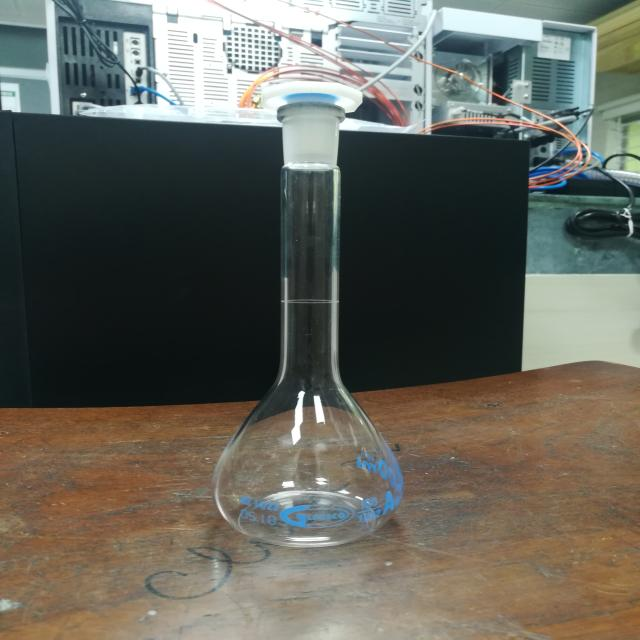Volumetric_Flask: (194, 58, 428, 564)
